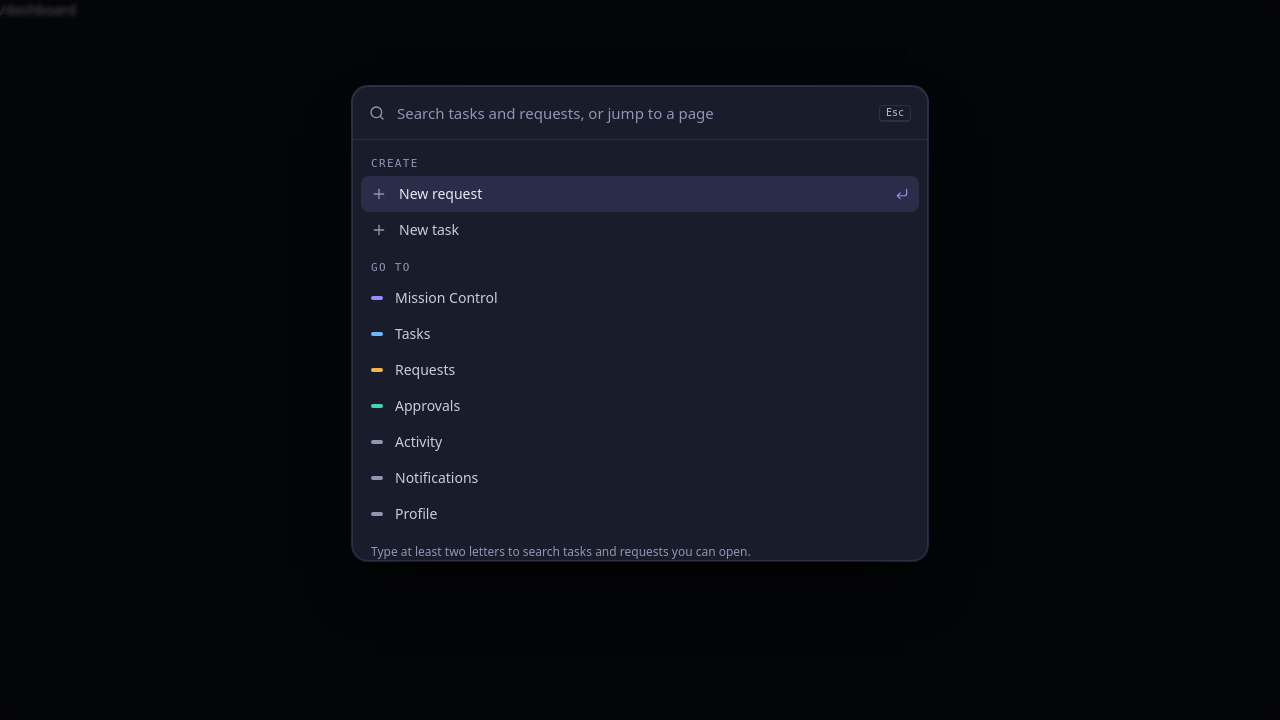
it: CommandPalette › searches tasks and requests through the normal list endpoints
Step 1. Type "backup" into the dropdown → (632, 113), box [397,87,867,139]
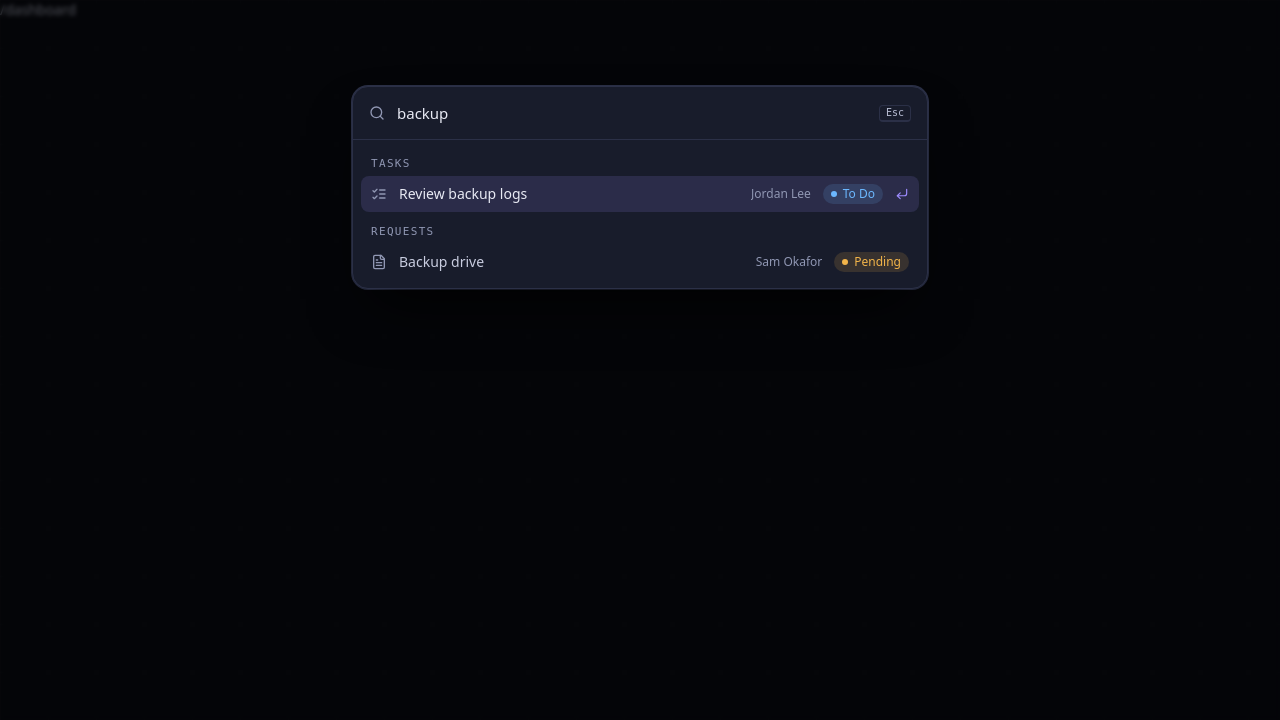
Expected: the option "Review backup logs Jordan Lee To Do" is shown, [361,176,919,212]
Expected: the option "Backup drive Sam Okafor Pending" is shown, [371,252,909,272]
